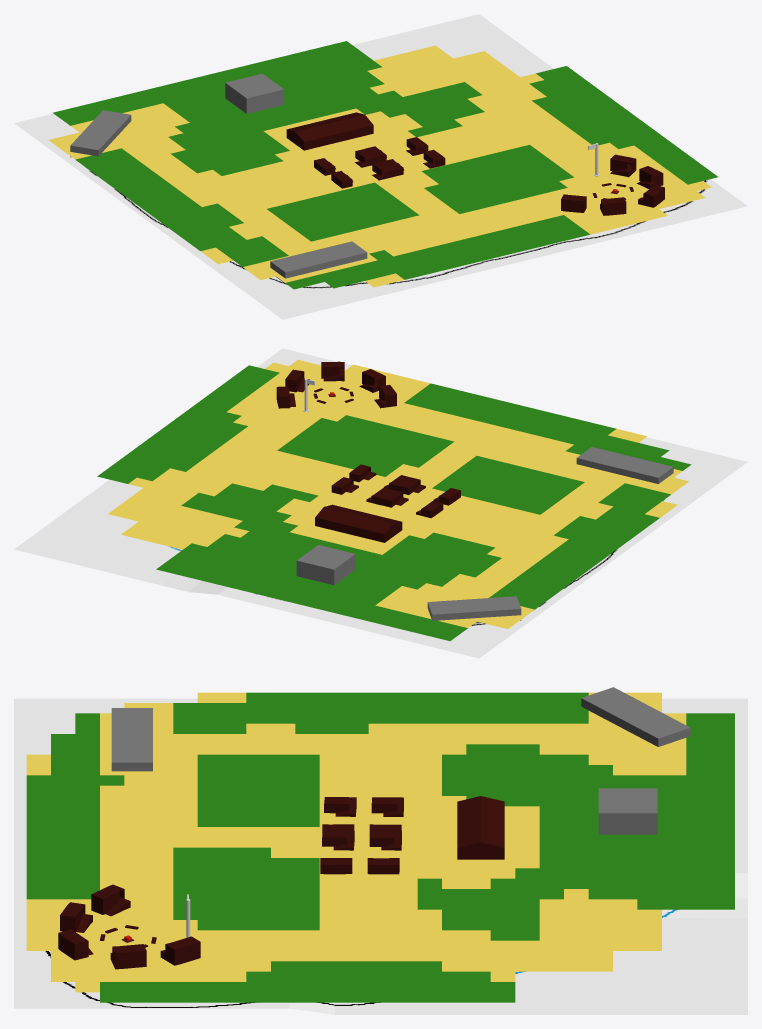
File: grayboxLevel.fbx
The picture shows the model from 3 angles, top to bottom: view 1: azimuth 30°, elevation 25°; view 2: azimuth 150°, elevation 25°; view 3: azimuth 270°, elevation 25°; orthographic projection. The views are drawn at different scales.
Parts seen in each view (by area): view 1: Plane.001, Plane, Cube.019, Cube.004, Cube.006, Cube.003; view 2: Plane.001, Plane, Cube.019, Cube.004, Cube.003, Cube.006; view 3: Plane.001, Plane, Cube.003, Cube.019, Cube.006, Cube.004, Cube.018, Cube.016, Cube.014, Cube.017, Cube.015, Cube.025 (+5 smaller).
Part boxes in pixels (x1,y1,x2,y2): Plane.001: [49, 41, 718, 289]; Plane: [14, 14, 747, 319]; Cube.019: [286, 112, 373, 150]; Cube.004: [270, 241, 367, 283]; Cube.006: [225, 73, 284, 113]; Cube.003: [70, 110, 131, 157]; Plane.001: [97, 360, 691, 640]; Plane: [14, 348, 747, 658]; Cube.019: [315, 504, 402, 542]; Cube.004: [576, 447, 673, 483]; Cube.003: [427, 596, 521, 623]; Cube.006: [296, 545, 355, 585]; Plane.001: [26, 692, 734, 1002]; Plane: [14, 698, 747, 1014]; Cube.003: [581, 687, 690, 746]; Cube.019: [457, 796, 504, 859]; Cube.006: [598, 788, 657, 834]; Cube.004: [111, 708, 152, 771]; Cube.018: [91, 884, 130, 916]; Cube.016: [160, 936, 200, 965]; Cube.014: [110, 944, 146, 969]; Cube.017: [60, 902, 92, 932]; Cube.015: [58, 929, 93, 960]; Cube.025: [322, 830, 354, 850].
Size of the model in its own units: 24111 by 2275 by 24000.
